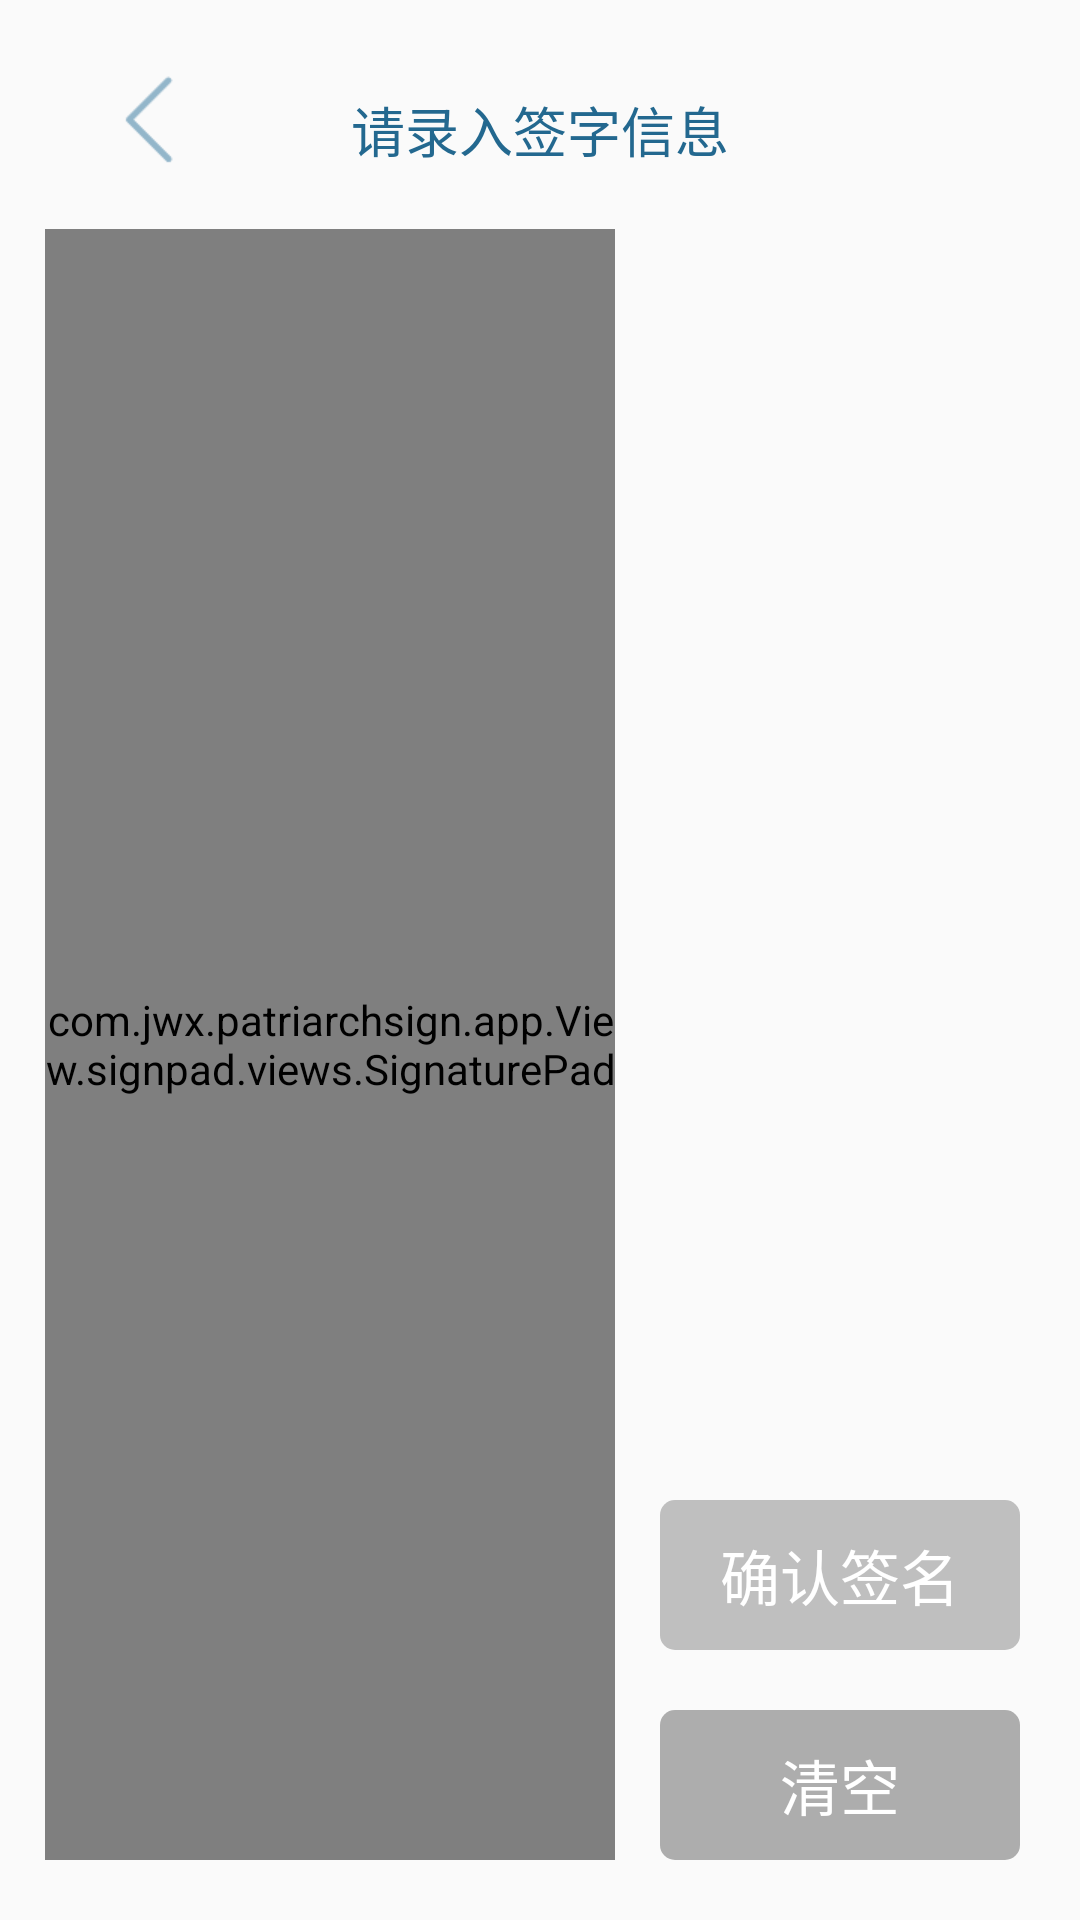

Screen size 1080px×1920px. Icon name, then its center in pixels as point (x, y):
back: point (149, 119)
